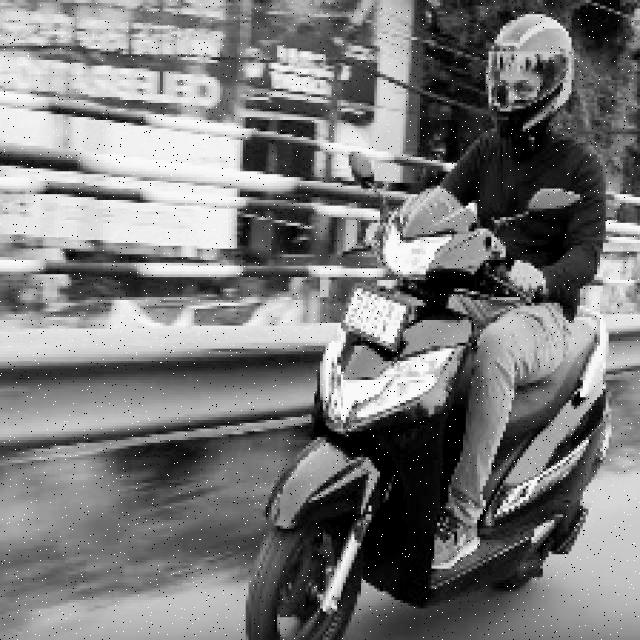Bike: (262, 184, 622, 640)
